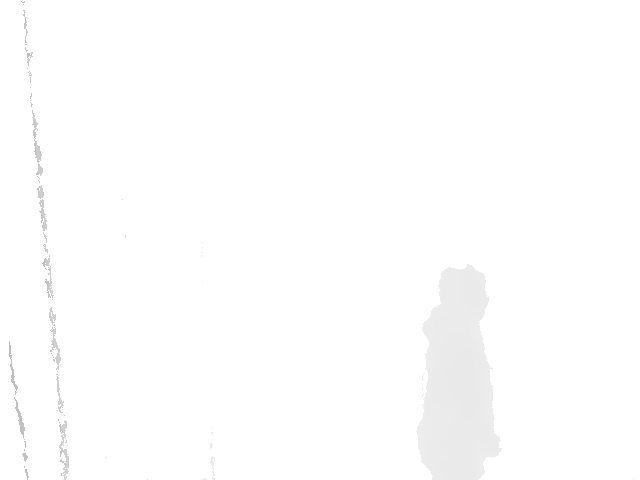head: (438, 266, 490, 327)
person: (417, 266, 501, 480)
